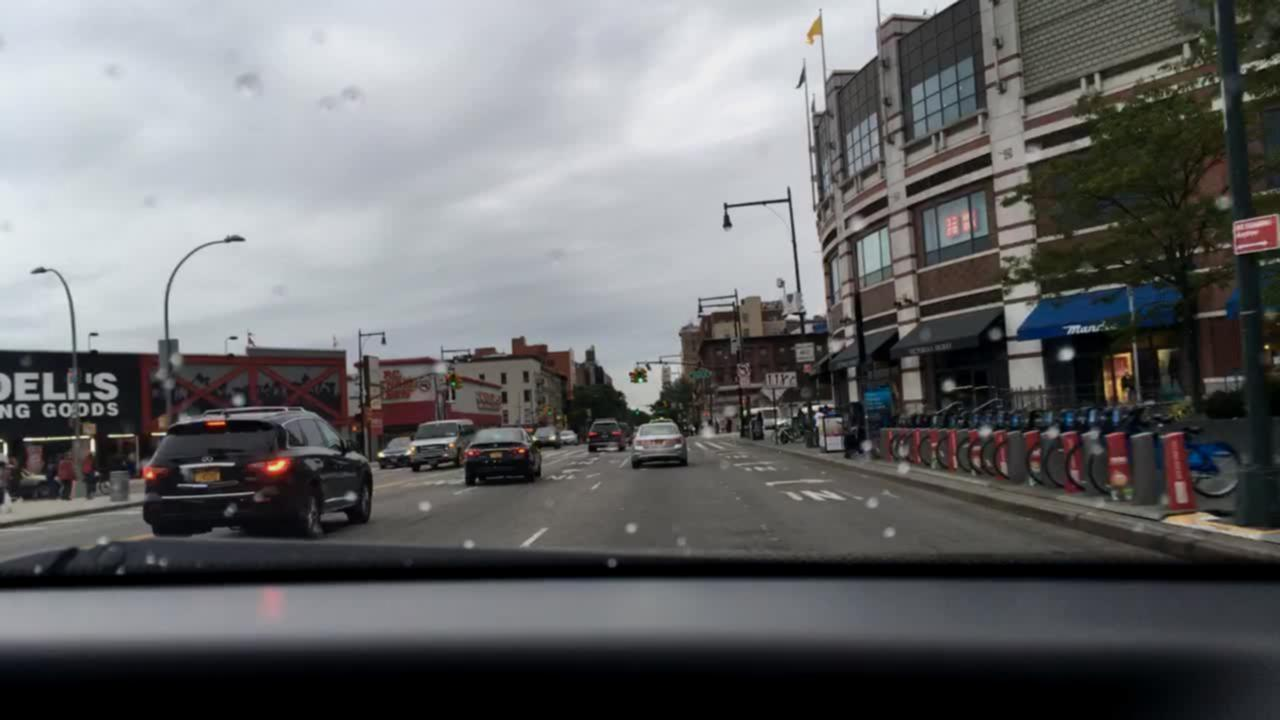Infiniti: (197, 450, 220, 470)
